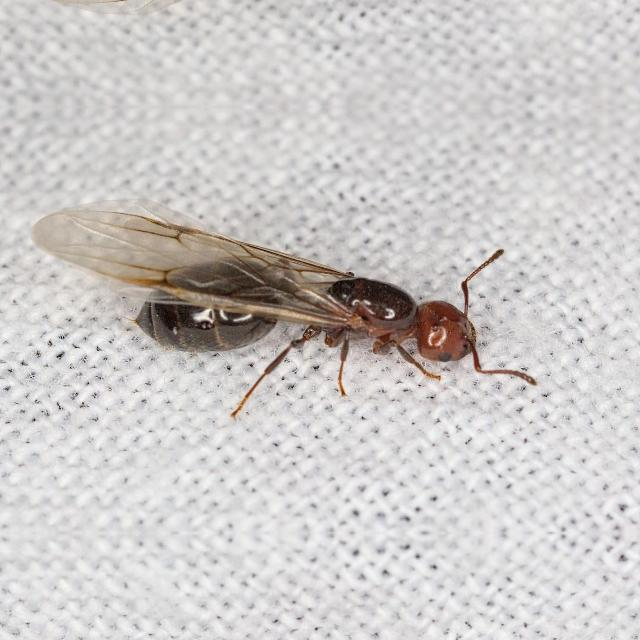Crematogaster: (118, 242, 520, 372)
